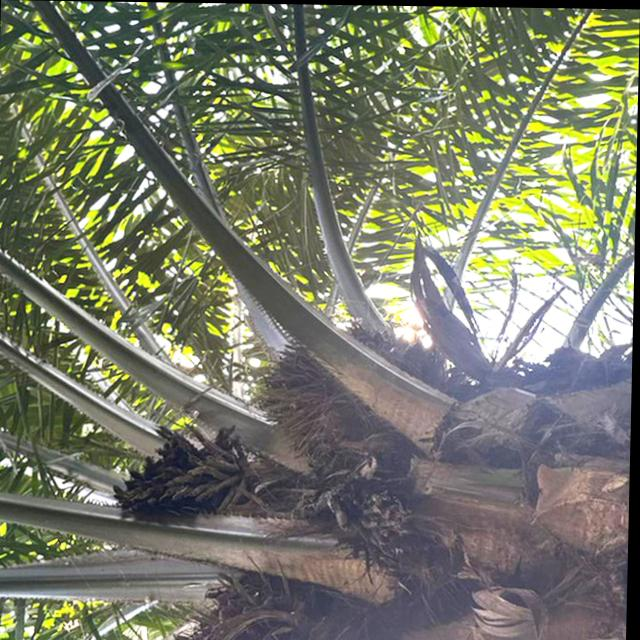unripe: (254, 322, 450, 446)
